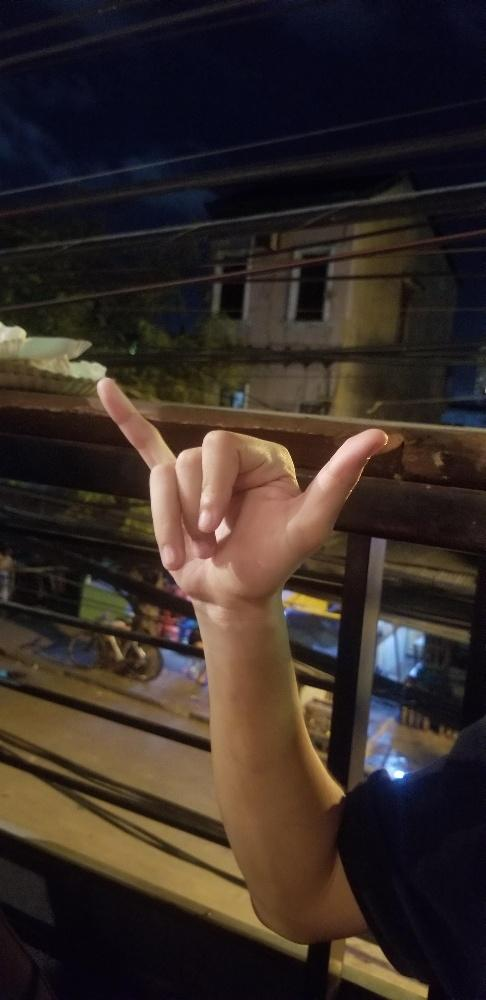y: (92, 372, 391, 609)
